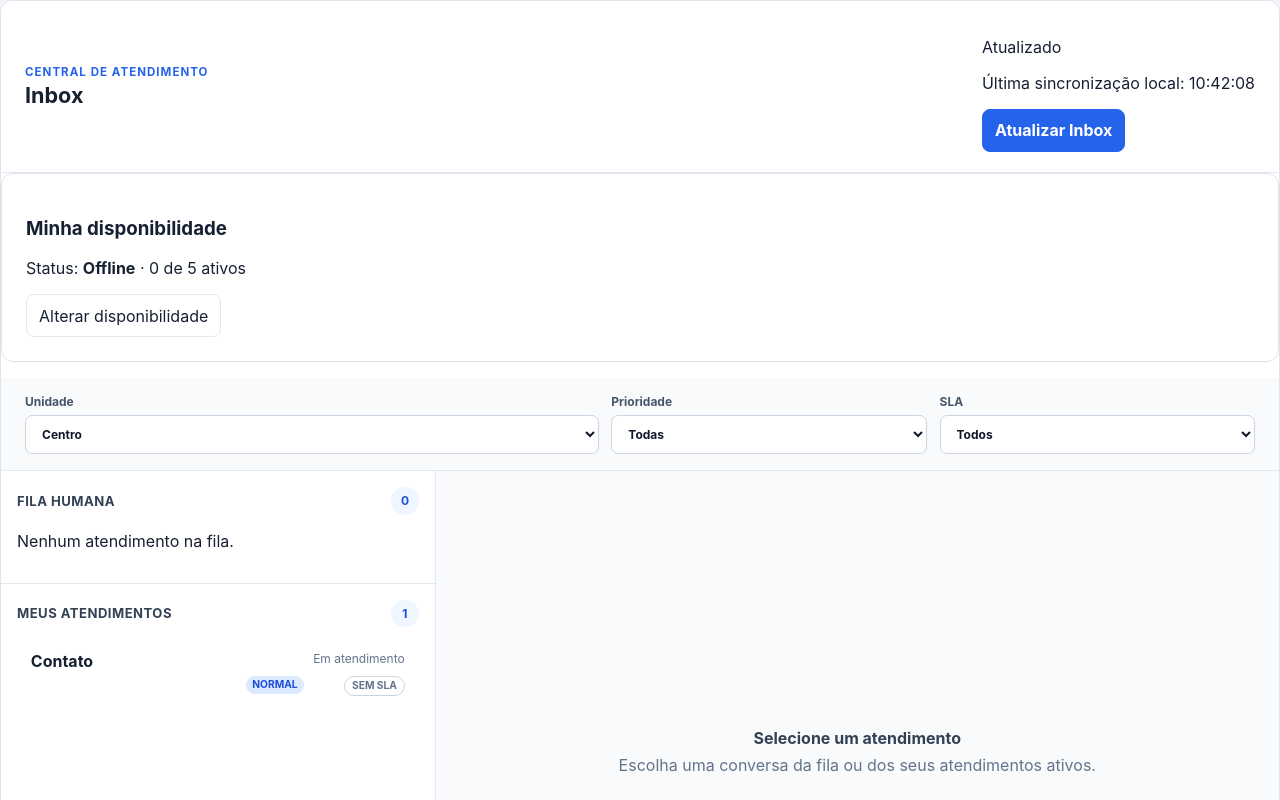
Test: InboxPanel › queues one human text, preserves draft and key on retry, then renders pending
The image size is (1280, 800).
Click the button with aria-label "Contato · Em atendimento" at {"x": 62, "y": 661}, box [18,638,418,709]
(page scrolled)
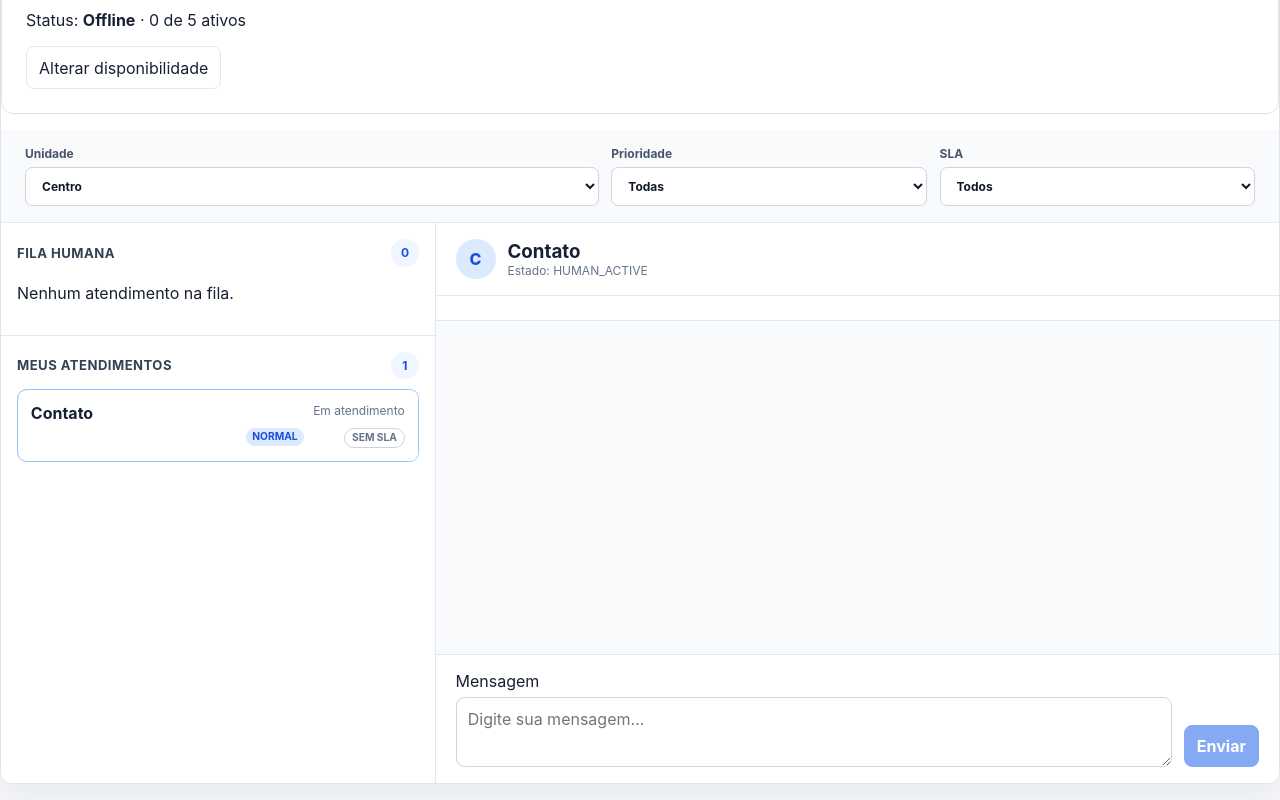
Type "Resposta local" into the text box labelled "Mensagem" at {"x": 814, "y": 732}, box [456,697,1172,767]
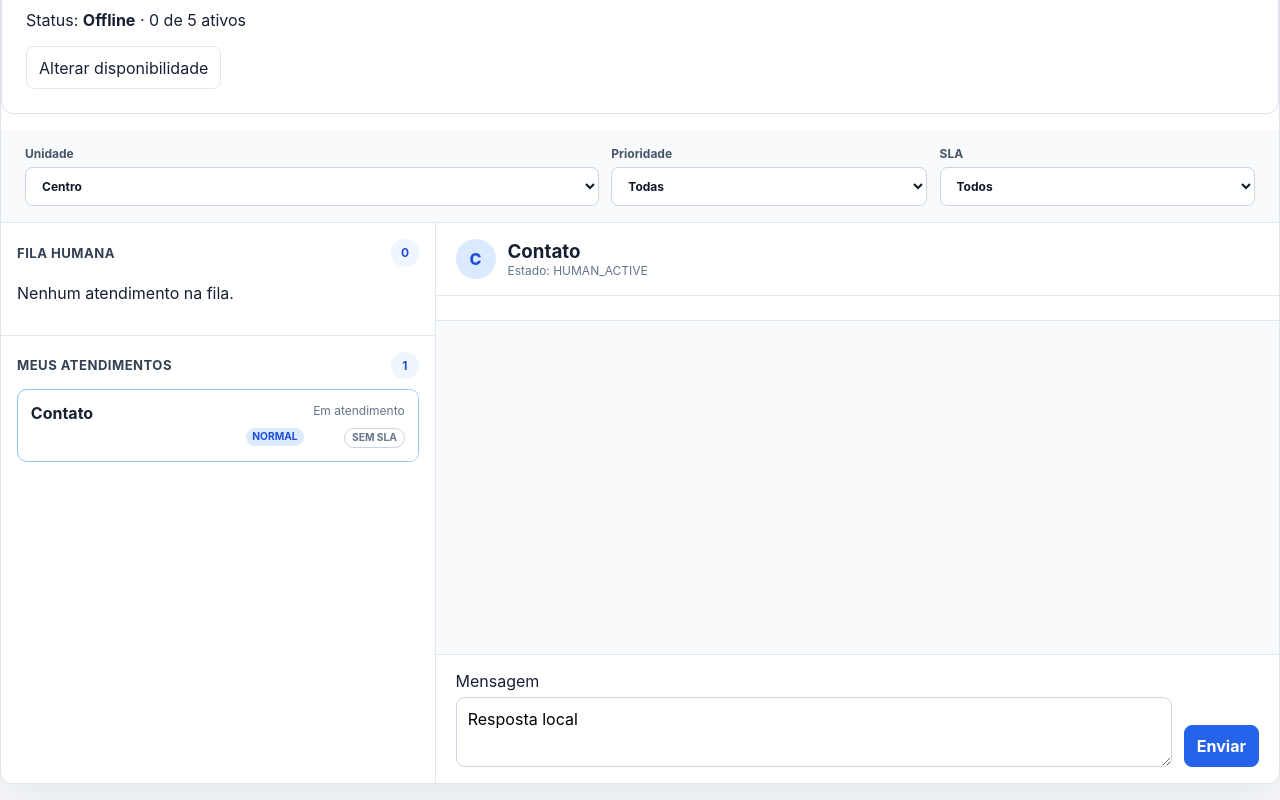
Click the button "Enviar" at {"x": 1221, "y": 746}, box [1184,725,1259,767]
(page scrolled)
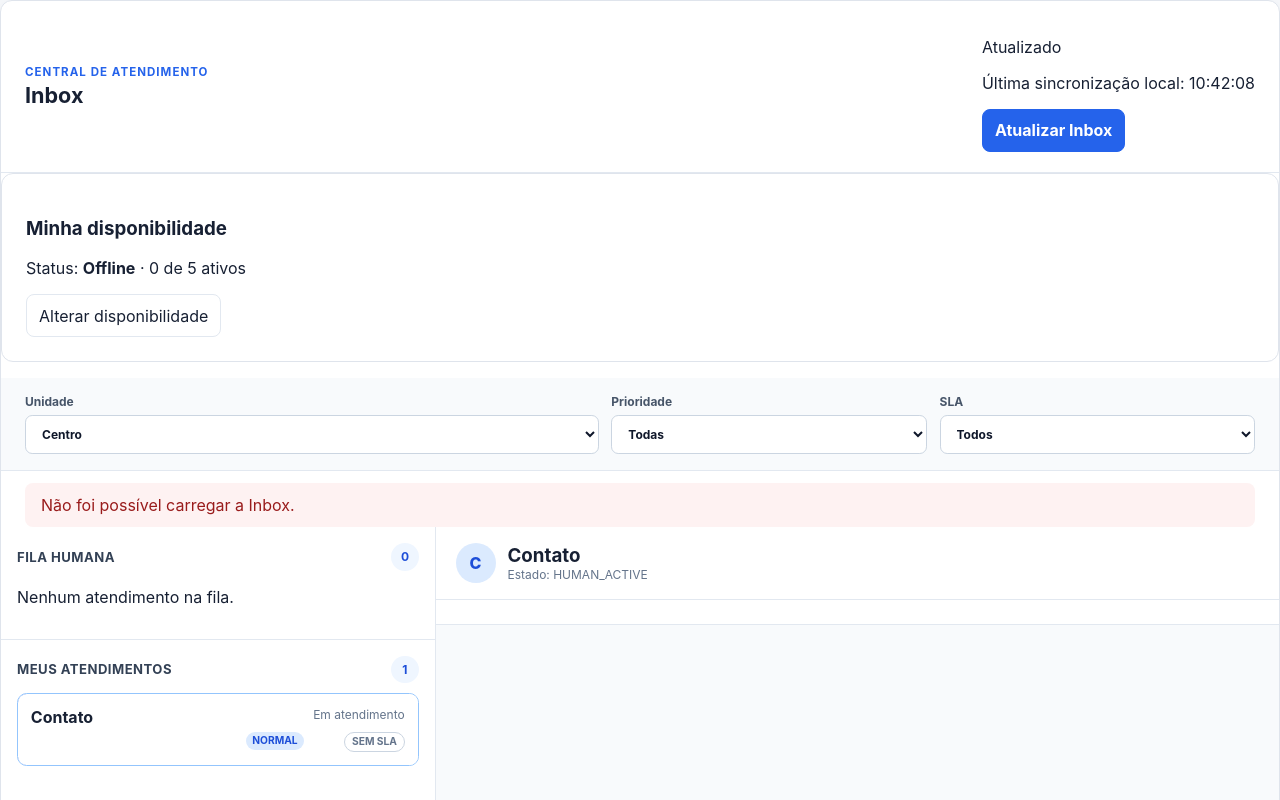
Result: the message "Não foi possível carregar a Inbox." is shown at [25,483,1255,527]
Click the button "Atualizar Inbox" at {"x": 1054, "y": 130}, box [982,109,1125,152]
(page scrolled)
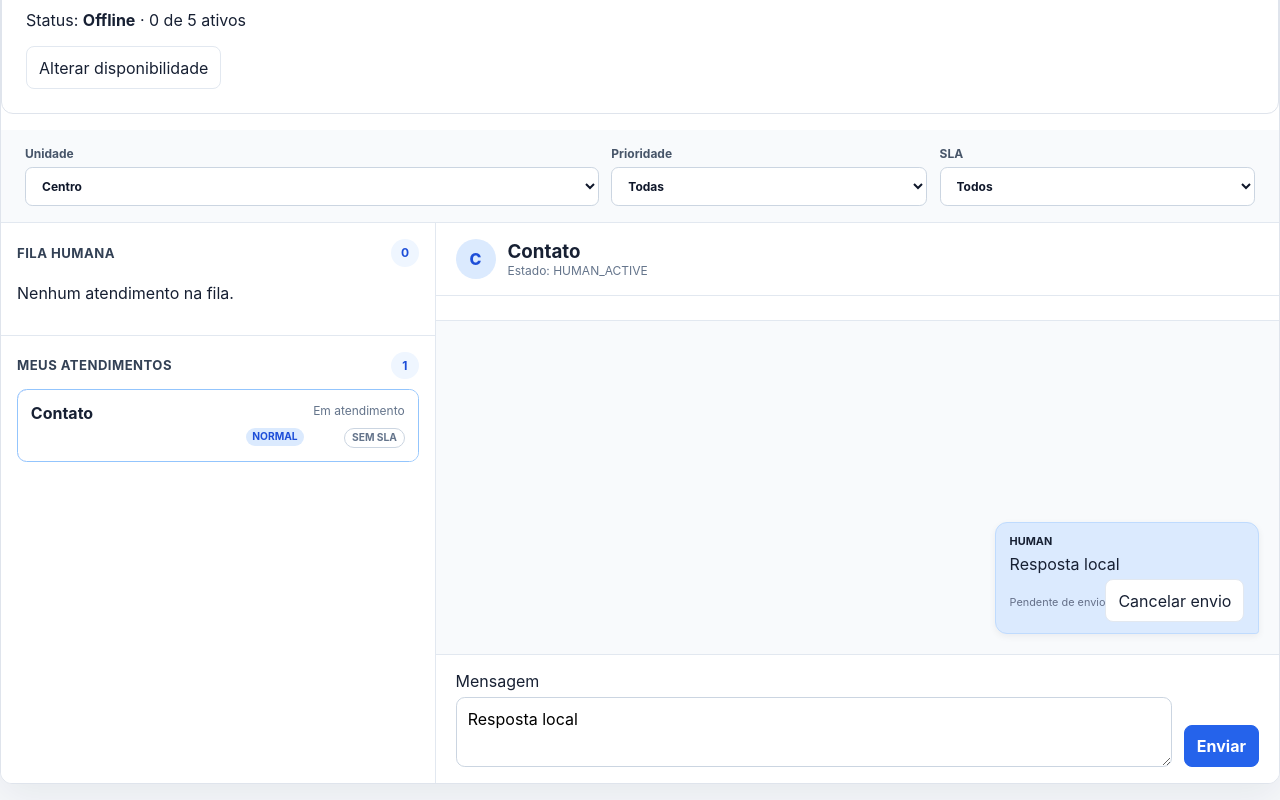
Click the button "Enviar" at {"x": 1221, "y": 746}, box [1184,725,1259,767]
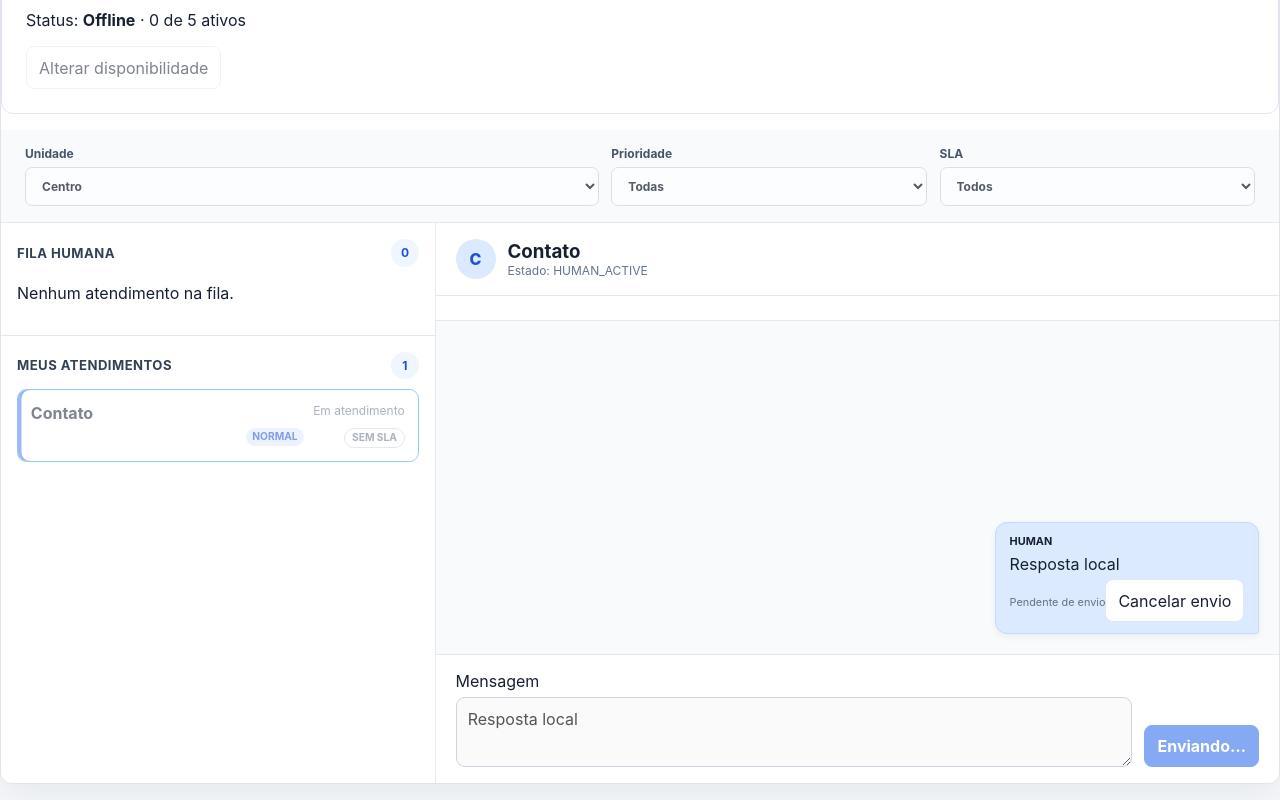
Click the button named "Enviar" at {"x": 1202, "y": 746}, box [1144,725,1259,767]
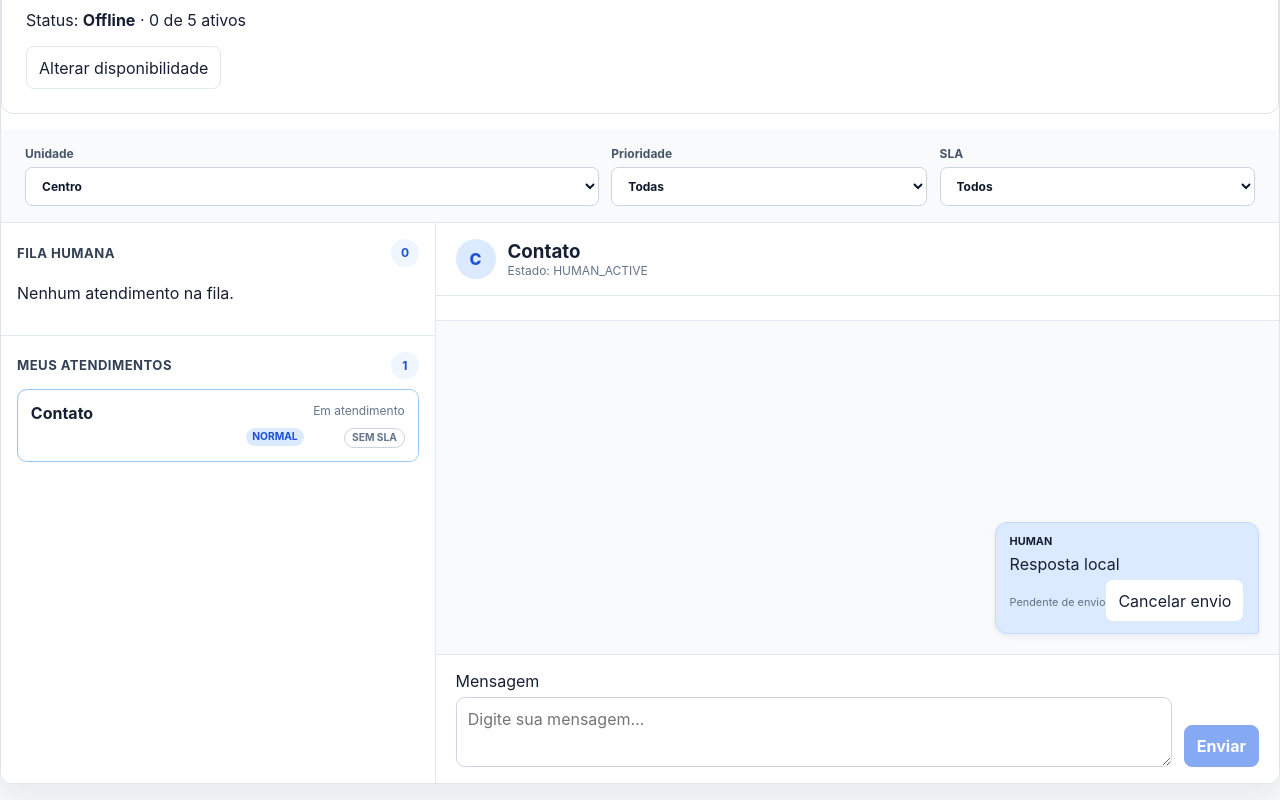
Result: the text "Pendente de envio" is shown at [1010,596,1106,610]
Result: the text box labelled "Mensagem" is empty at [456,697,1172,767]
